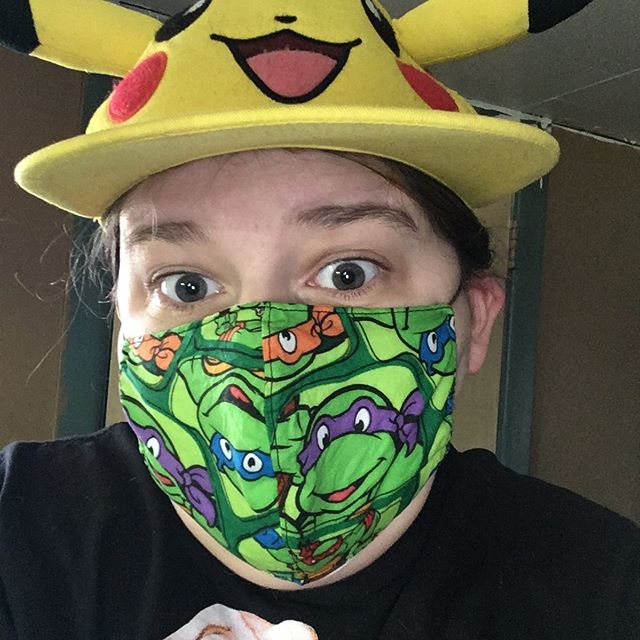homemade: (103, 312, 506, 584)
